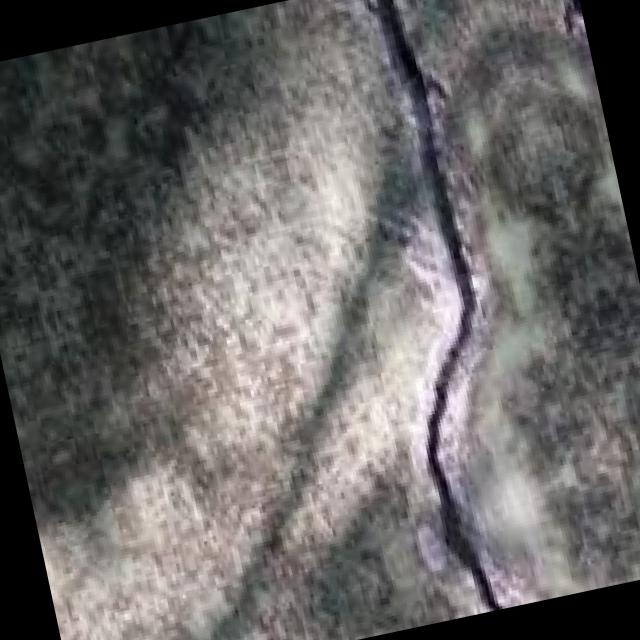crack: (291, 0, 580, 622)
